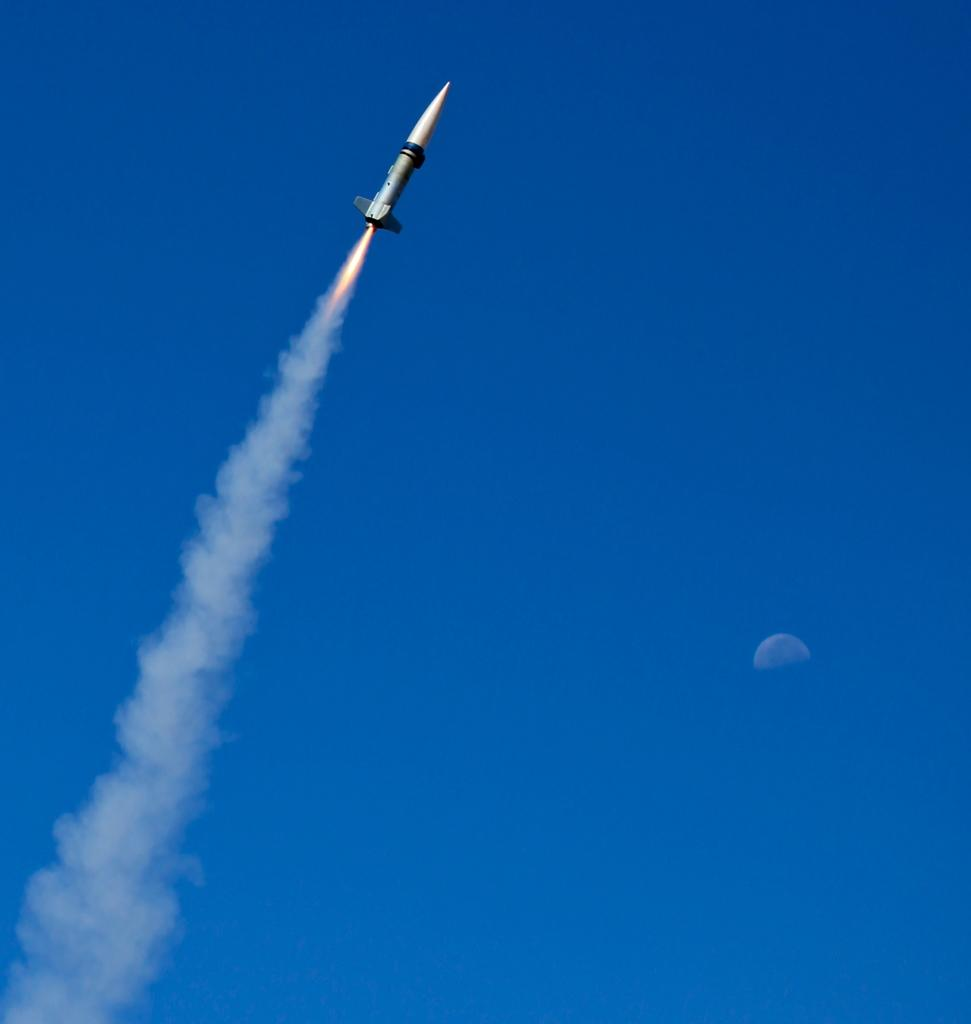Missile: (348, 79, 453, 234)
